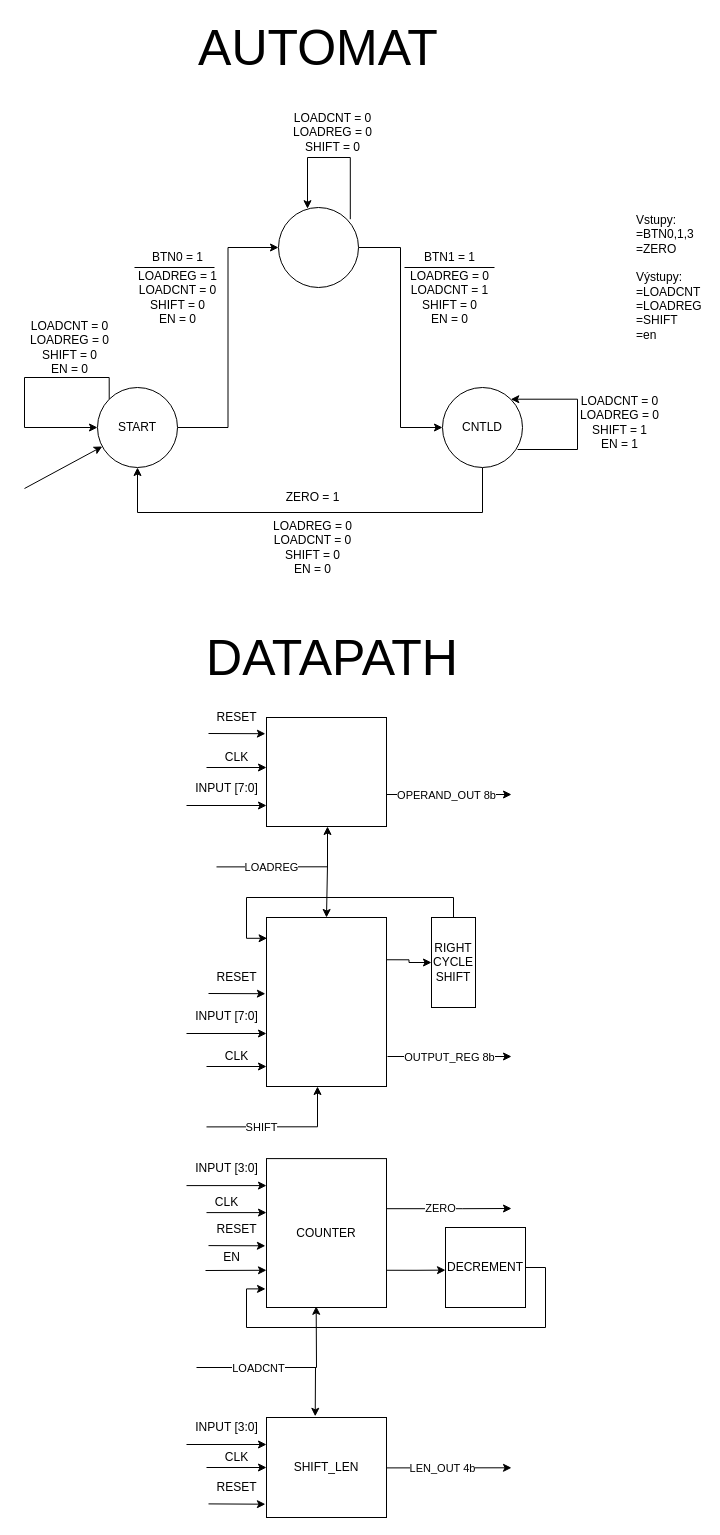
This 720x1535 diagram has some shape labels left out. Here are the shapes that lost their labels. From the top down, the box of each, then its label:
(278, 206, 358, 288): REGLD
(266, 716, 386, 826): OPERAND
(266, 916, 386, 1086): RIGHT SHIFT REG
